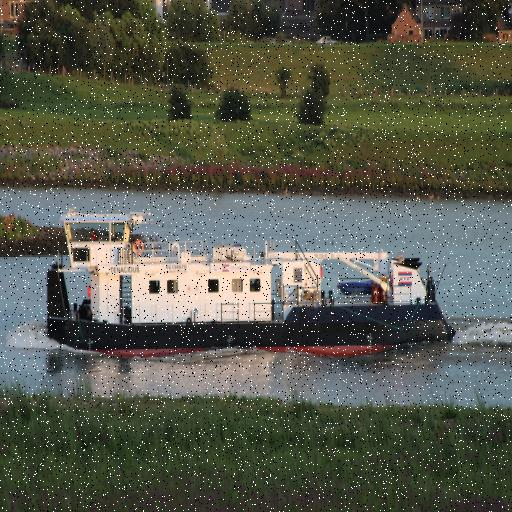tugboat: (43, 204, 459, 368)
